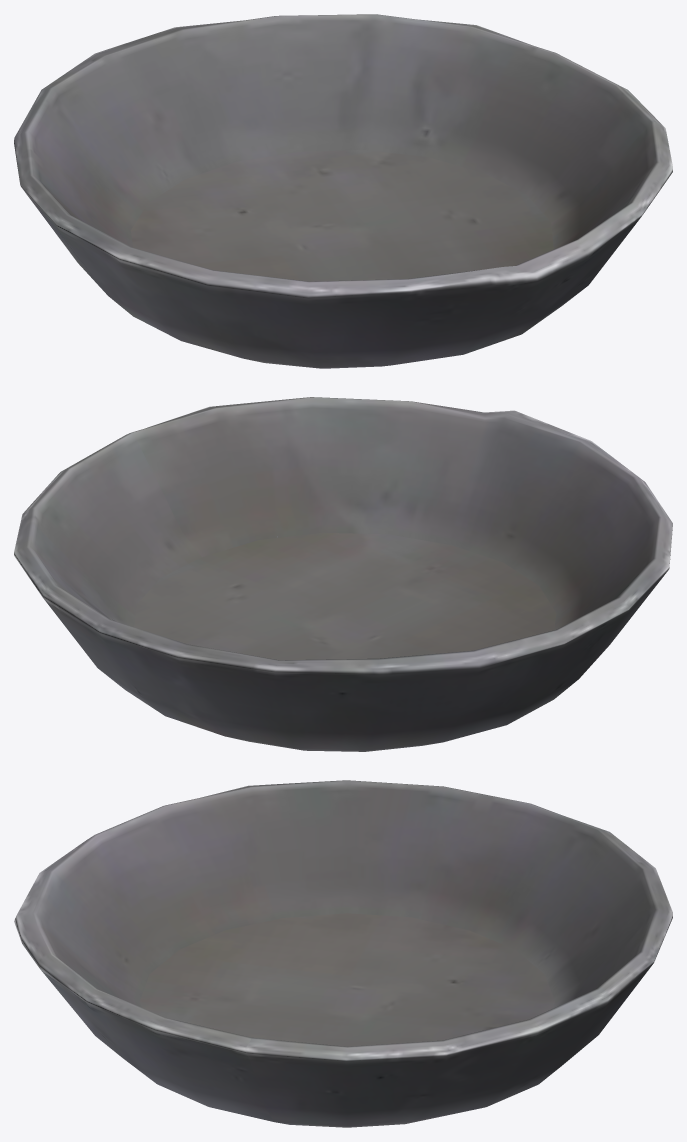
3 renders of one model, top to bottom at view 1: azimuth 30°, elevation 25°; view 2: azimuth 150°, elevation 25°; view 3: azimuth 270°, elevation 25°, orthographic. The views are drawn at different scales.
Visible parts, largest first — view 1: SM_Cookware_CastIron_Bowl_01_LOD0; view 2: SM_Cookware_CastIron_Bowl_01_LOD0; view 3: SM_Cookware_CastIron_Bowl_01_LOD0.
Boxes of the visible parts, x1,y1,x2,y2 form: SM_Cookware_CastIron_Bowl_01_LOD0: (14, 14, 672, 368); SM_Cookware_CastIron_Bowl_01_LOD0: (14, 397, 672, 751); SM_Cookware_CastIron_Bowl_01_LOD0: (14, 780, 672, 1127).
Bounding box in the file's own units: 0.4205 × 0.1056 × 0.4303.
1 material, 1 textured.
